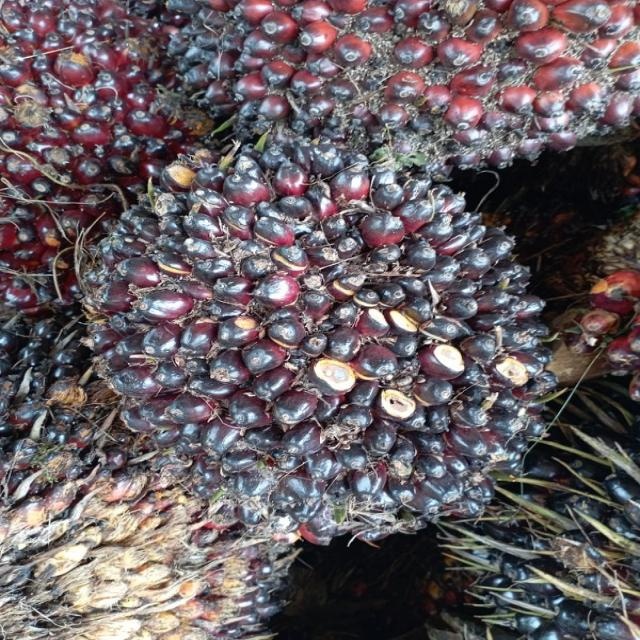fraksi 00: (69, 142, 558, 538)
fraksi 1: (163, 0, 640, 181)
